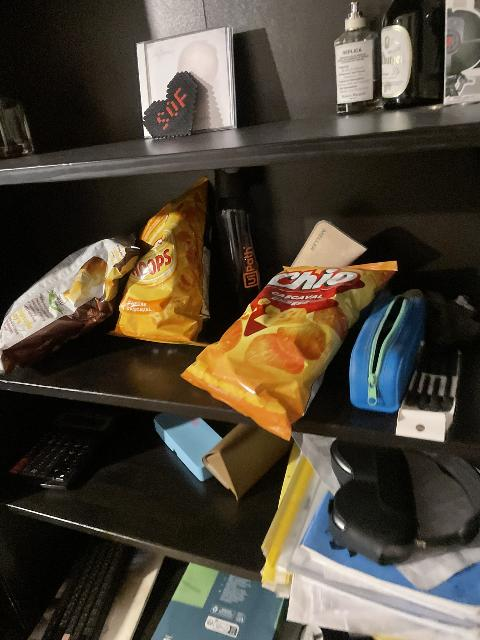Chio Cascaval 125g: (182, 256, 397, 441)
Chio Hula Hoops Cheese 70g: (105, 180, 213, 339)
Lays Beef Grilled Ribs 125g: (0, 237, 143, 371)
